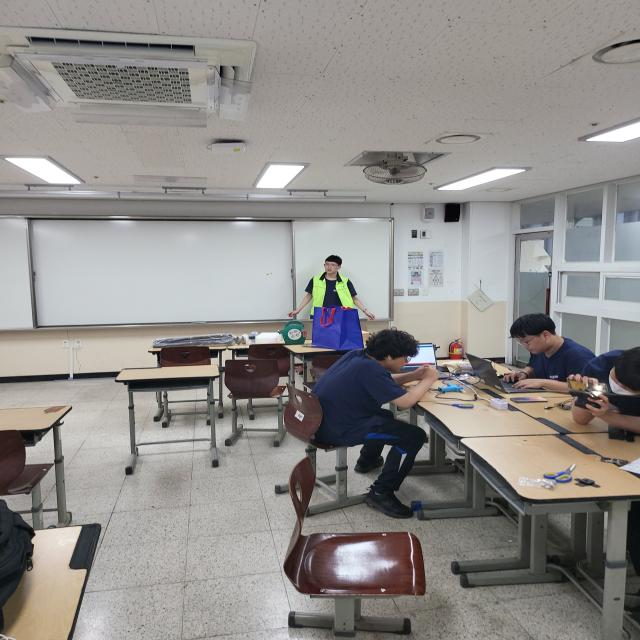weston_spy: (304, 274, 361, 315)
